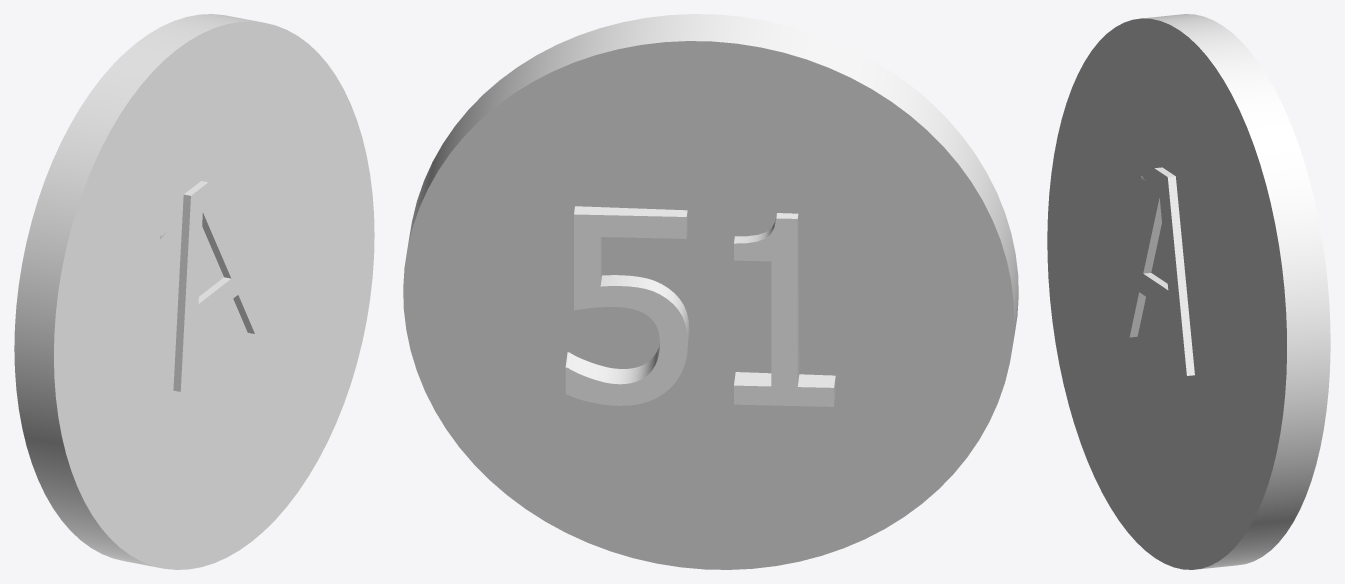
Rendered from Lotensin.fbx.
The picture shows the model from 3 angles, left to right: view 1: azimuth 30°, elevation 25°; view 2: azimuth 150°, elevation 25°; view 3: azimuth 270°, elevation 25°; orthographic projection. The views are drawn at different scales.
Visible parts, largest first — view 1: node_id61, node_id36; view 2: node_id61, node_id55, node_id36; view 3: node_id61, node_id36.
Boxes of the visible parts, x1,y1,x2,y2 form: node_id61: (14,14,374,569); node_id36: (173,181,269,391); node_id61: (403,14,1018,569); node_id55: (565,206,835,406); node_id36: (624,227,696,359); node_id61: (1047,14,1330,569); node_id36: (1118,167,1194,375).
Size of the model in its own units: 0.7886 by 0.839 by 0.4274.
Materials: 3 (3 with a texture image).
